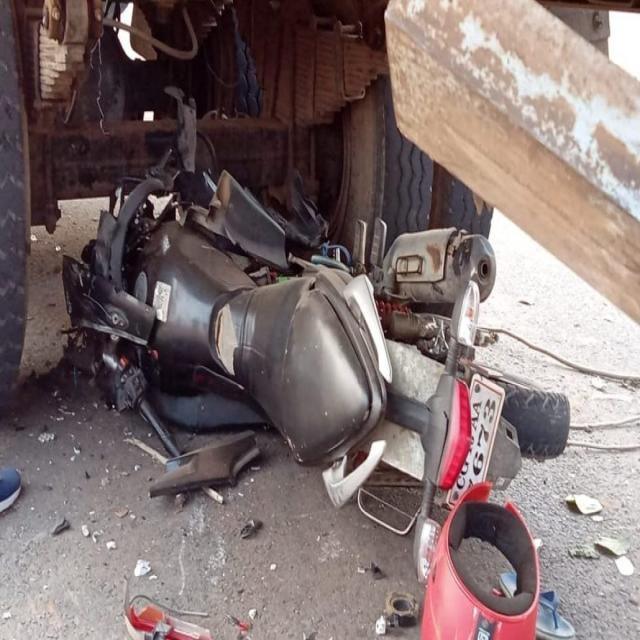accident: (62, 98, 570, 581)
